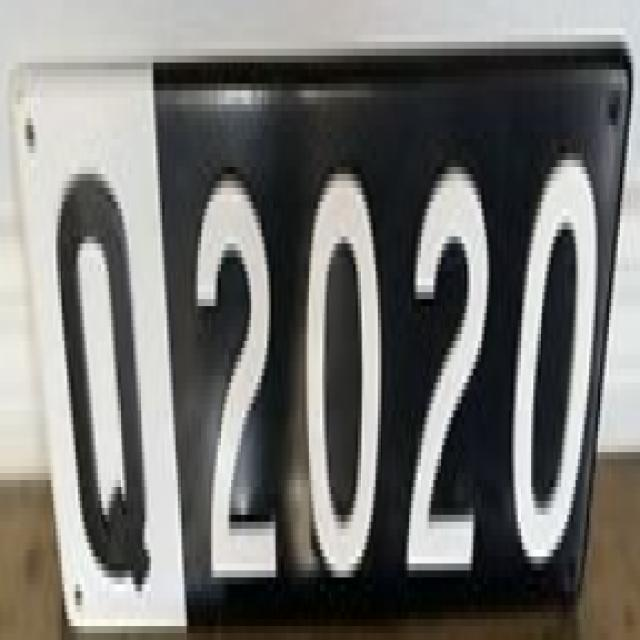0: (509, 131, 604, 613), (298, 147, 384, 624)
Q: (50, 155, 153, 600)
